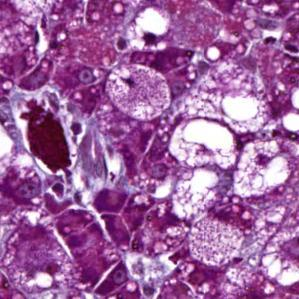ballooning: (169, 114, 241, 173), (105, 61, 172, 124), (231, 137, 295, 200), (169, 166, 231, 225)
